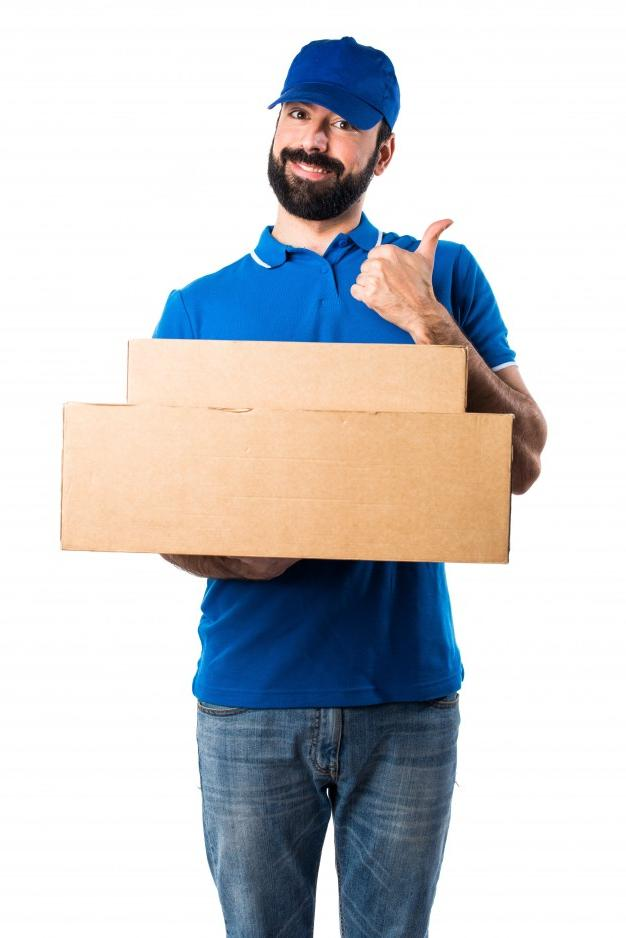thumbsup: (350, 218, 454, 305)
